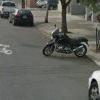Motorcycle: (35, 26, 94, 64)
